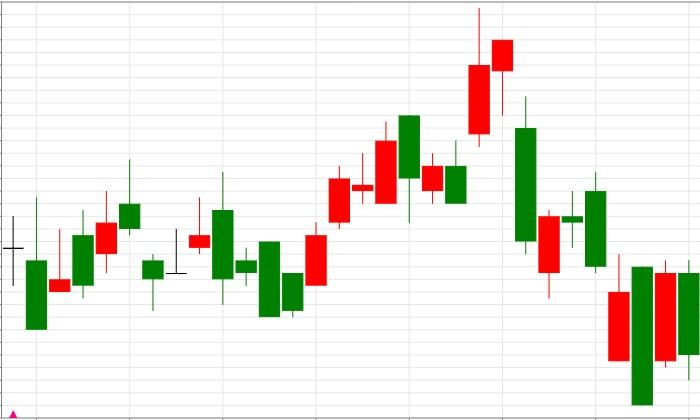bearish_engulfing_fall: (142, 171, 235, 310)
